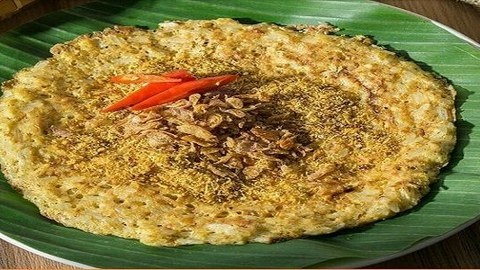kerak_telor: (1, 18, 455, 249)
